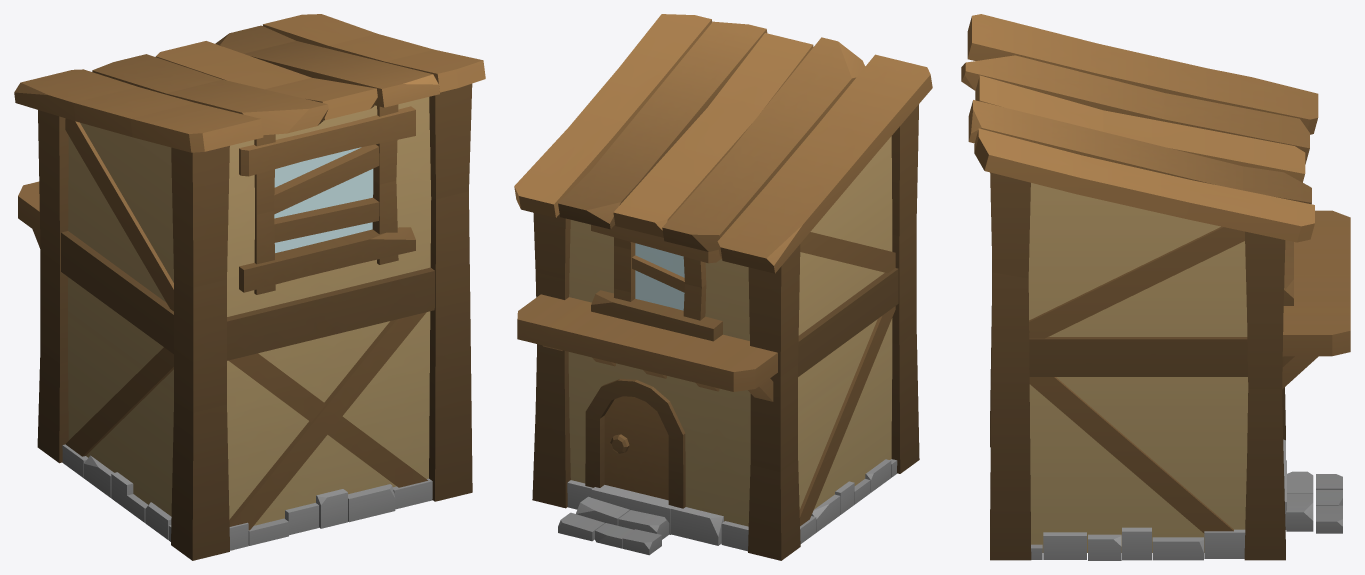
Rendered from House001.fbx.
The picture shows the model from 3 angles, left to right: view 1: azimuth 30°, elevation 25°; view 2: azimuth 150°, elevation 25°; view 3: azimuth 270°, elevation 25°; orthographic projection. The views are drawn at different scales.
Visible parts, largest first — view 1: Cube.034; view 2: Cube.034; view 3: Cube.034.
Boxes of the visible parts, left/top/right/bottom form: Cube.034: left=14, top=14, right=485, bottom=560; Cube.034: left=514, top=14, right=932, bottom=560; Cube.034: left=961, top=14, right=1350, bottom=560.
Bounding box in the file's own units: 674 × 939 × 793.
